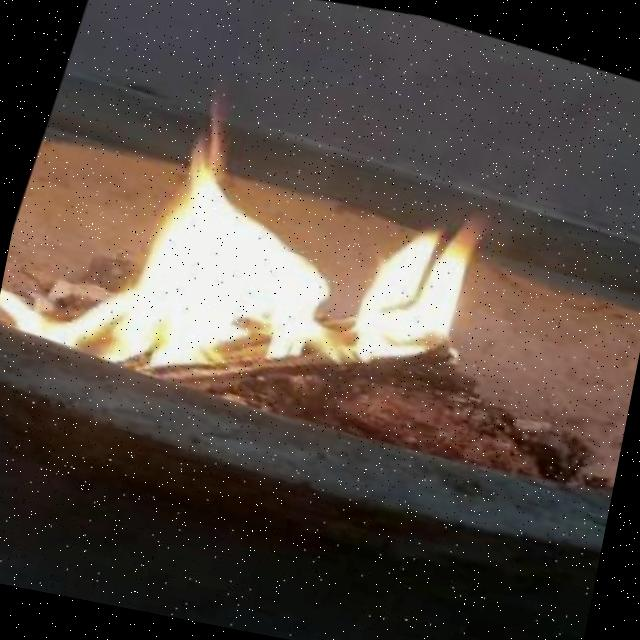fire: (3, 64, 509, 432)
